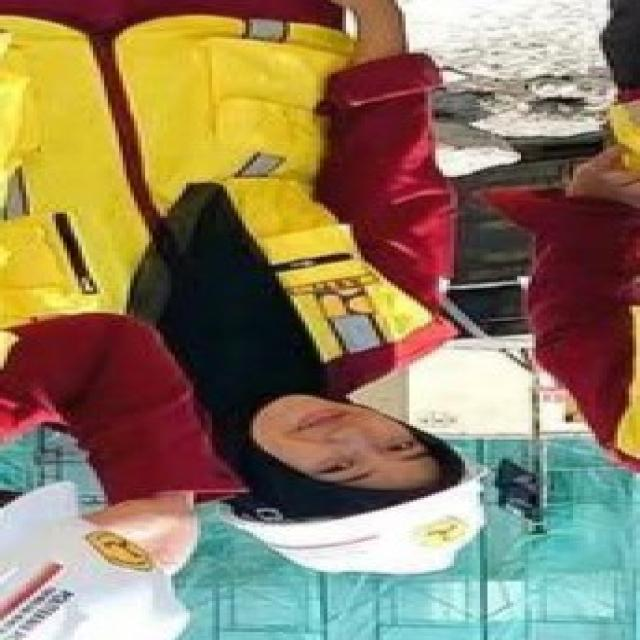safetyhelmet: (193, 390, 496, 590)
